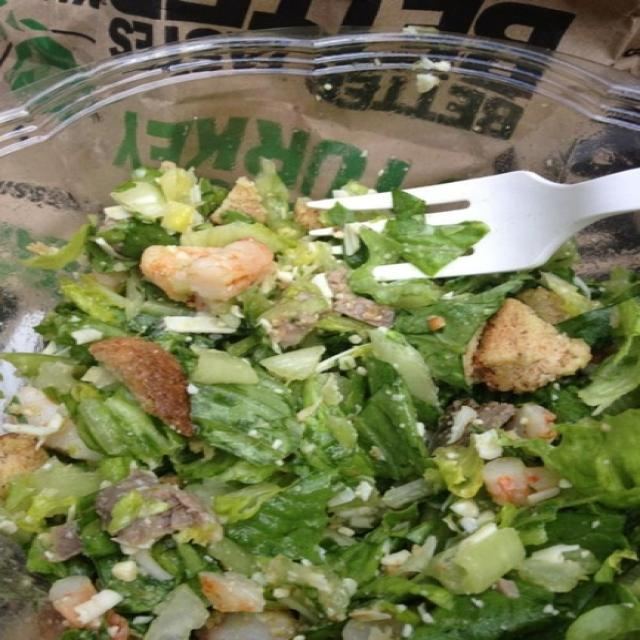蔬菜料理: (13, 10, 636, 602)
